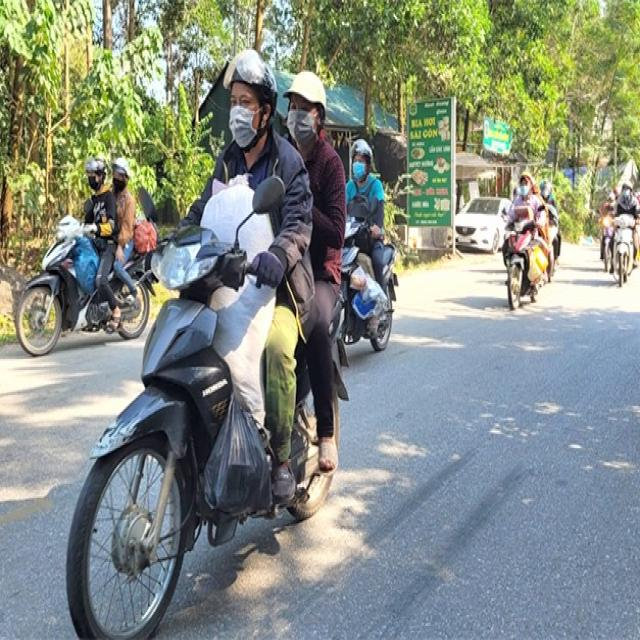1-2-helmet: (281, 67, 330, 107)
